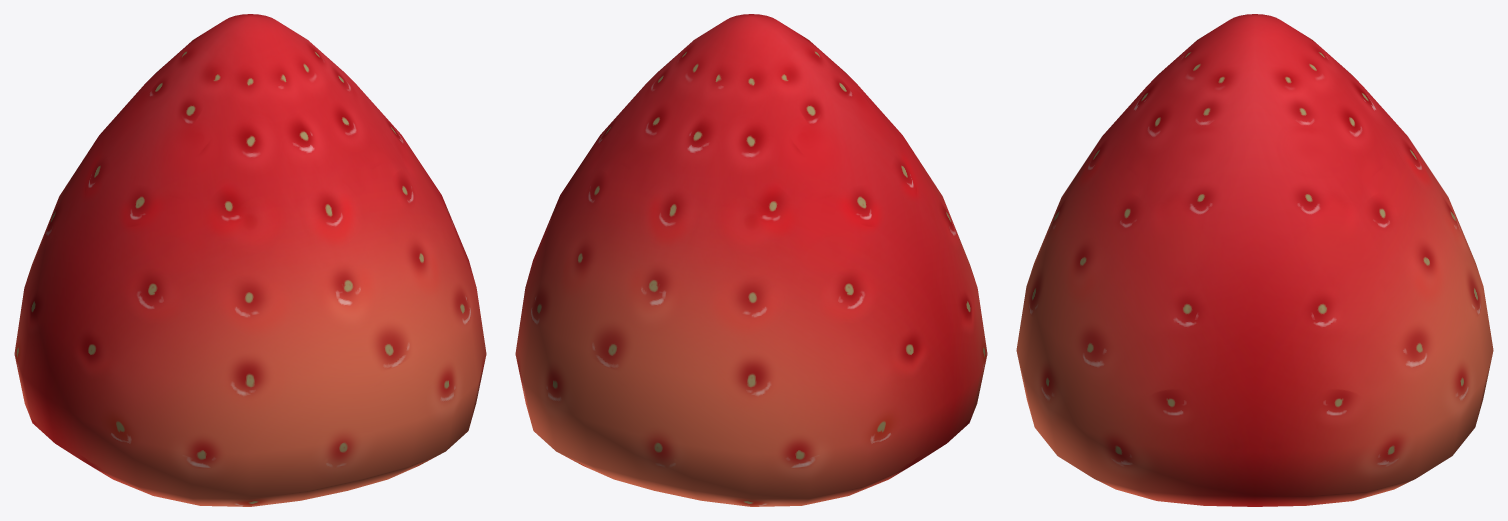
File: strawberry.FBX
3 renders of one model, left to right at view 1: azimuth 30°, elevation 25°; view 2: azimuth 150°, elevation 25°; view 3: azimuth 270°, elevation 25°, orthographic.
Parts seen in each view (by area): view 1: Sphere003; view 2: Sphere003; view 3: Sphere003.
Boxes of the visible parts, x1,y1,x2,y2 form: Sphere003: [14, 14, 486, 506]; Sphere003: [515, 14, 987, 506]; Sphere003: [1016, 14, 1493, 506].
Bounding box in the file's own units: 22.27 × 21.29 × 22.27.
Materials: 1 (1 with a texture image).
